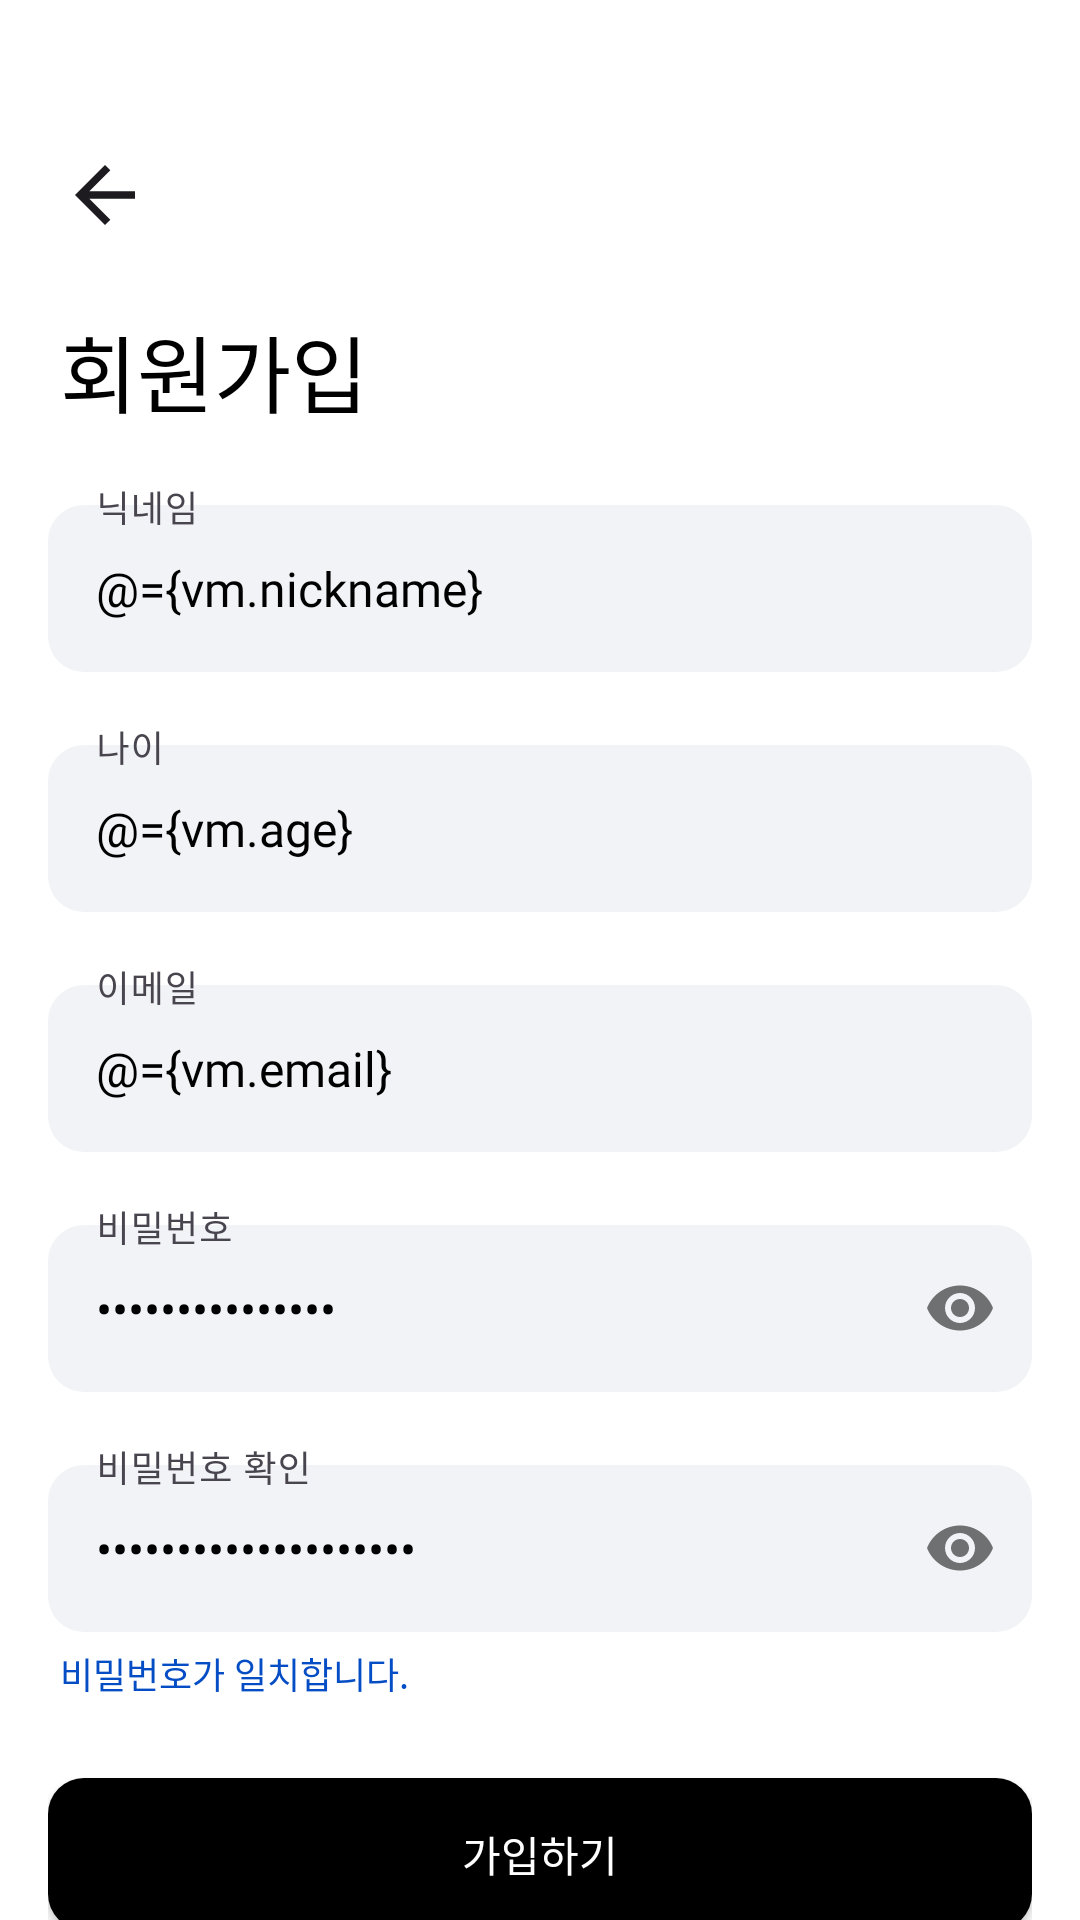

Screen size 1080×1920. Icon name, then its box in pixels as bbox=(x1, y1, x2, y2):
arrow back: bbox=(75, 165, 135, 225)
